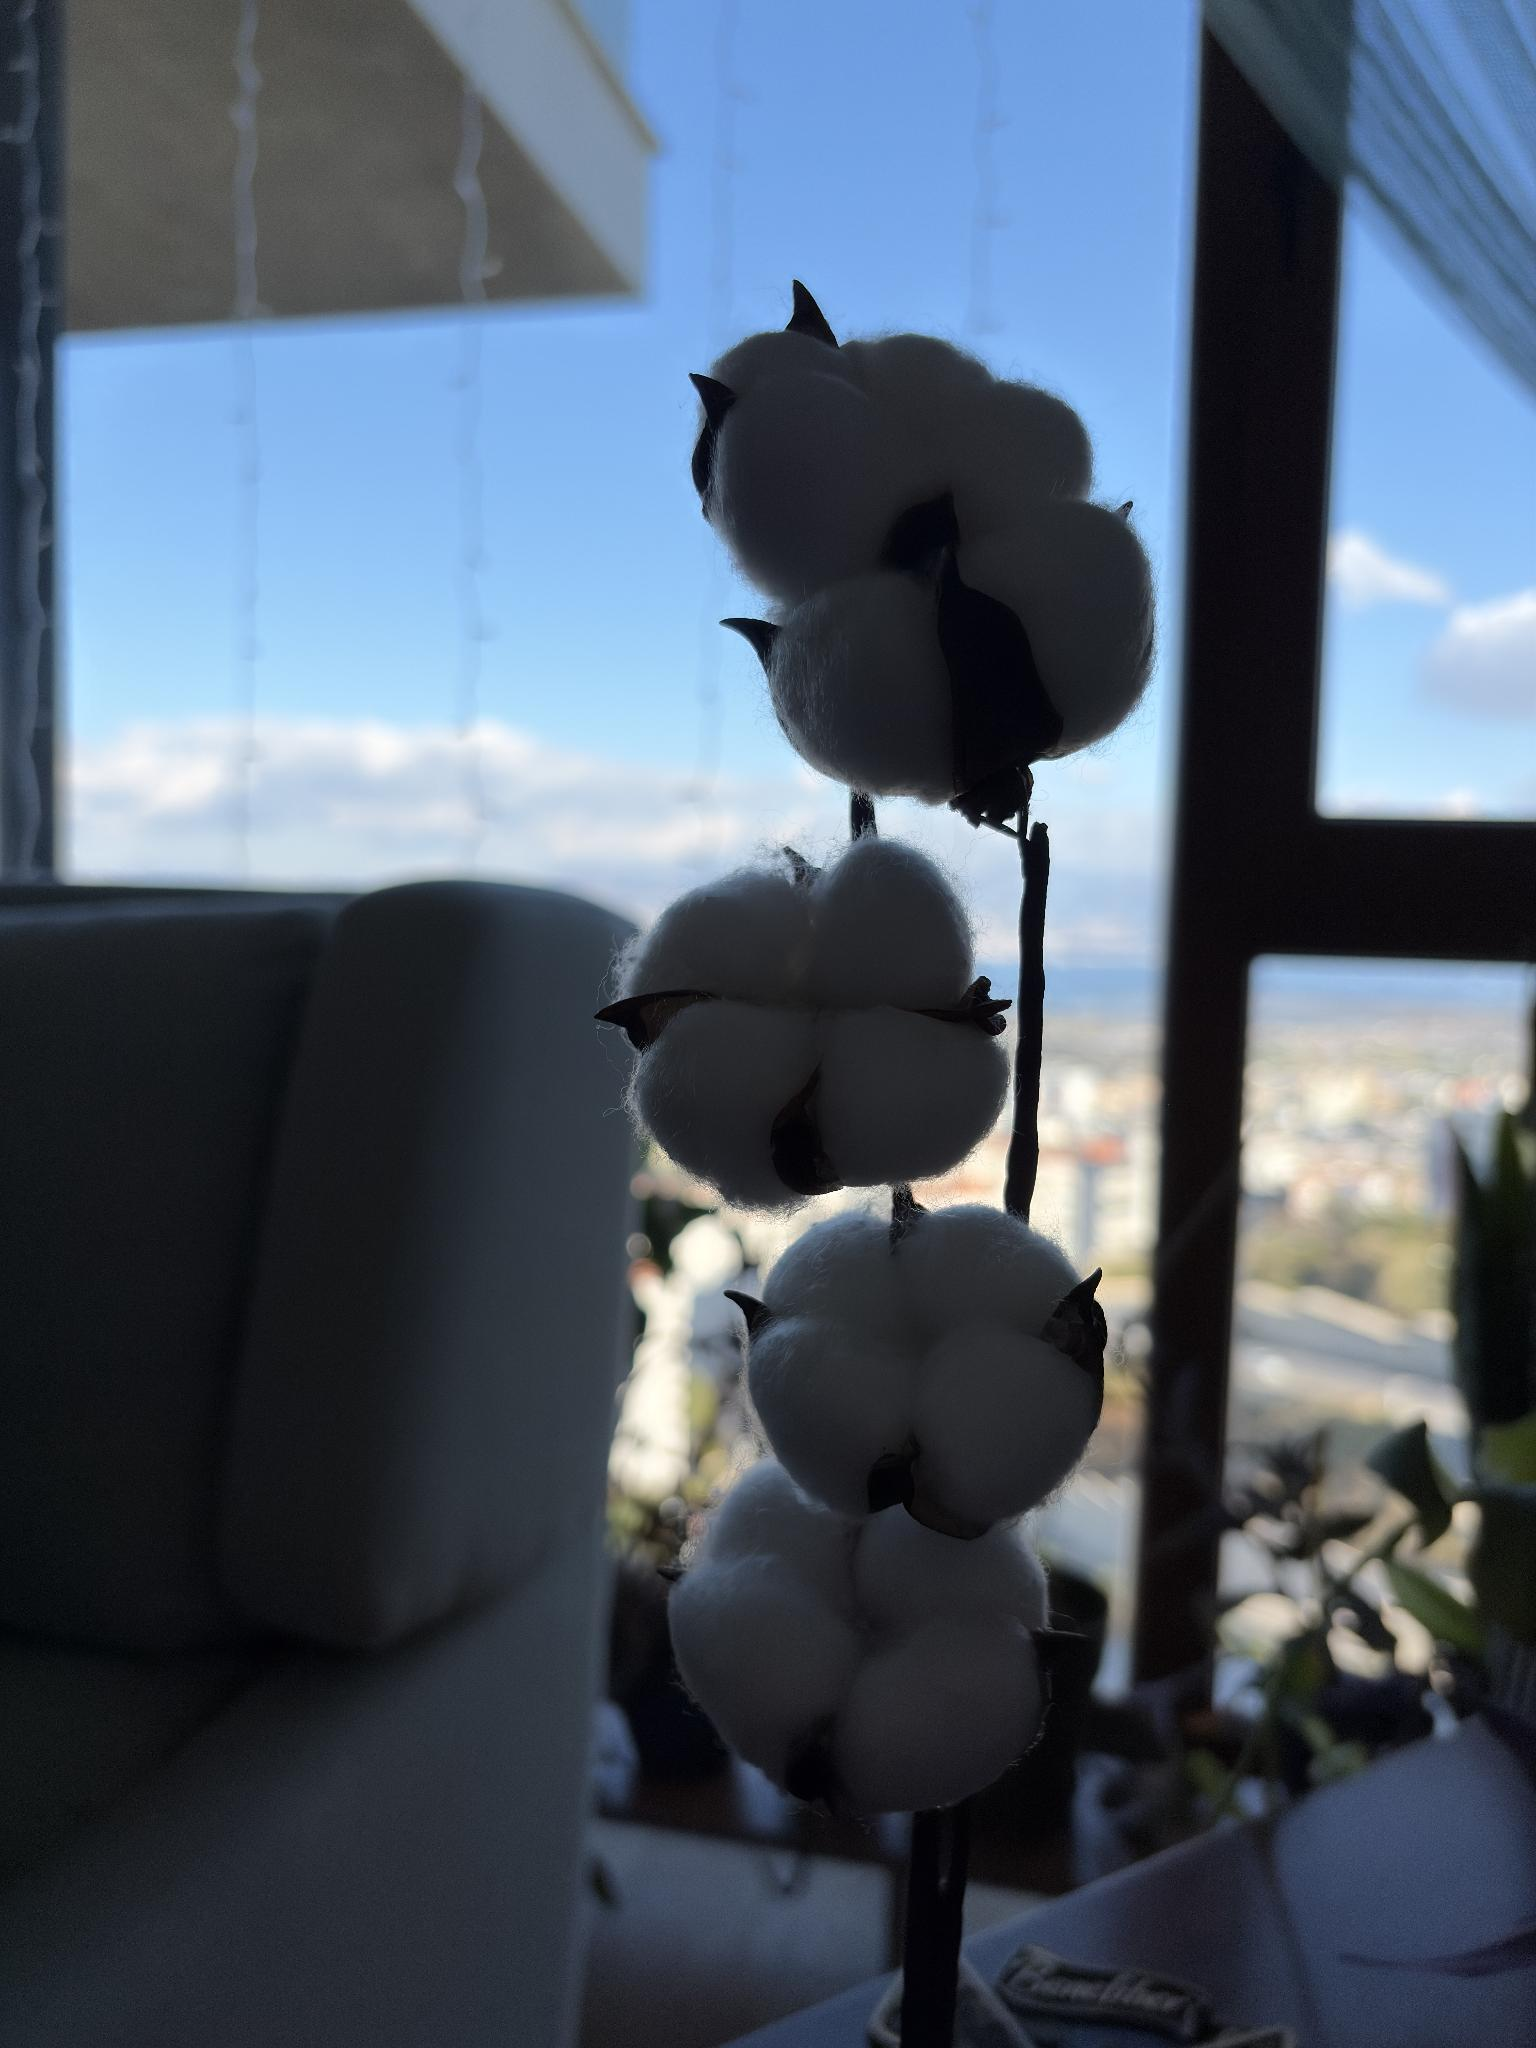cotton_boll: (958, 502, 1154, 751), (705, 369, 915, 600), (760, 569, 958, 801), (668, 1550, 862, 1784), (834, 1611, 1041, 1813), (632, 998, 818, 1206), (915, 1321, 1092, 1524), (812, 1006, 1008, 1185), (747, 1314, 915, 1517), (808, 837, 971, 1009), (687, 1461, 862, 1619), (623, 868, 808, 1003), (941, 379, 1091, 540), (854, 1506, 1047, 1630), (897, 1206, 1076, 1338), (841, 334, 992, 456), (763, 1211, 905, 1342), (708, 331, 862, 398)
cotton_boll-cluster: (682, 318, 1168, 816), (605, 827, 1016, 1206), (671, 1455, 1052, 1824), (721, 1205, 1112, 1532)
